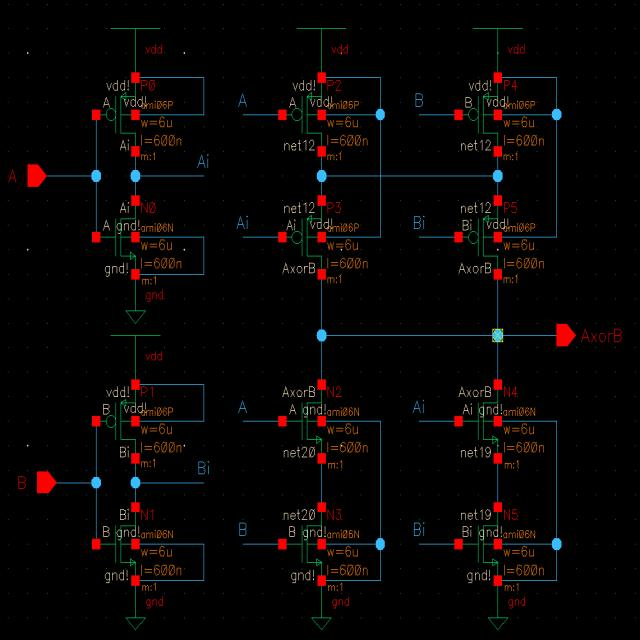nmos: (276, 378, 326, 466), (453, 381, 503, 467), (456, 501, 503, 589), (280, 502, 328, 584), (97, 501, 142, 587), (98, 198, 140, 284)
pmos: (277, 71, 330, 158), (451, 74, 504, 158), (277, 195, 326, 283), (456, 194, 504, 283), (98, 380, 144, 465), (99, 74, 144, 160)
